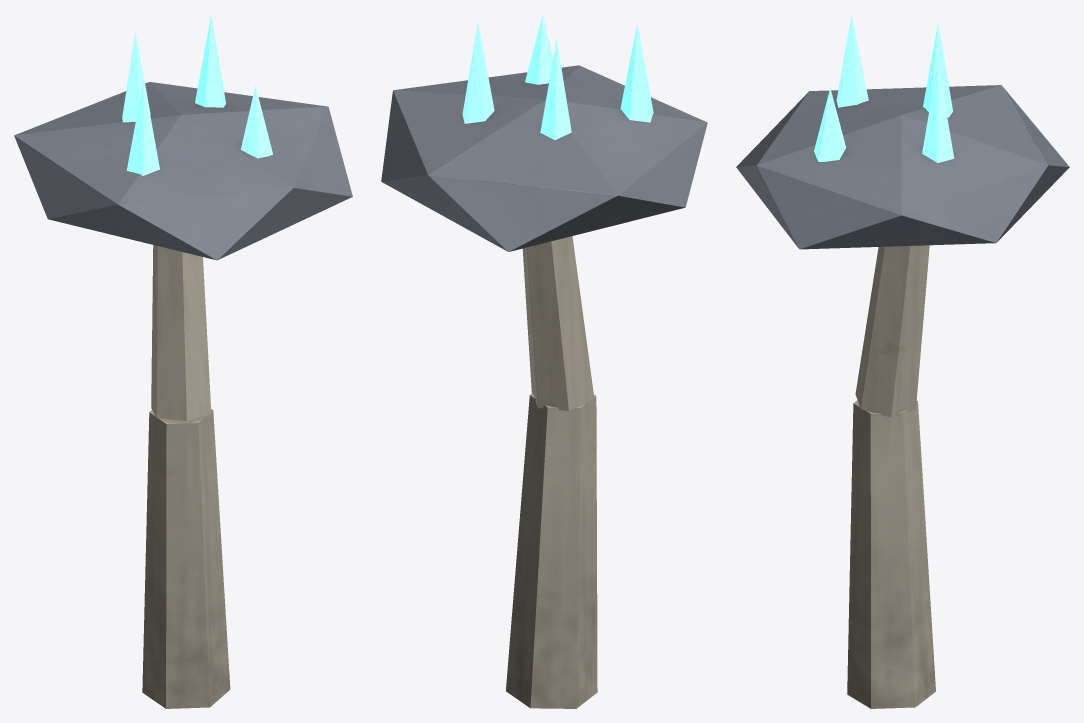
Rendered from arv_fungo_cristal_4.glb.
3 renders of one model, left to right at view 1: azimuth 30°, elevation 25°; view 2: azimuth 150°, elevation 25°; view 3: azimuth 270°, elevation 25°, orthographic. The views are drawn at different scales.
Visible parts, largest first — view 1: arv_fungo_cristal_4; view 2: arv_fungo_cristal_4; view 3: arv_fungo_cristal_4.
Part boxes in pixels (left/top/right/bottom): arv_fungo_cristal_4: left=14, top=15, right=352, bottom=708; arv_fungo_cristal_4: left=381, top=15, right=707, bottom=708; arv_fungo_cristal_4: left=736, top=15, right=1069, bottom=708.
Size of the model in its own units: 0.8096 by 1.8 by 0.8256.
Materials: 2 (1 with a texture image).
